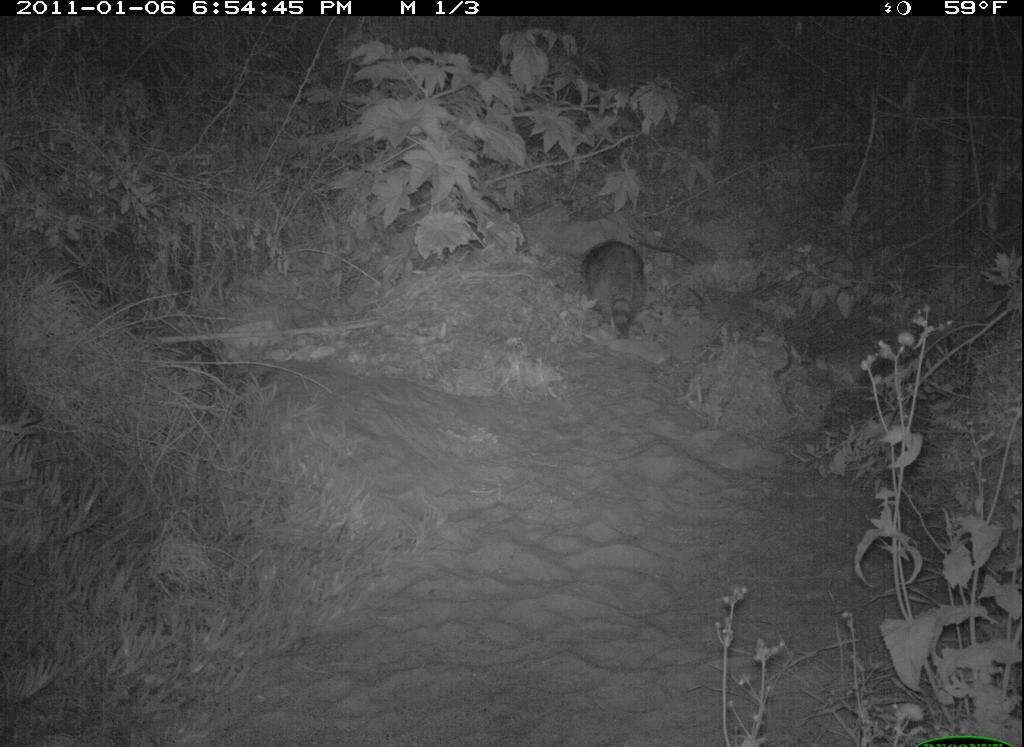raccoon: (588, 226, 656, 354)
